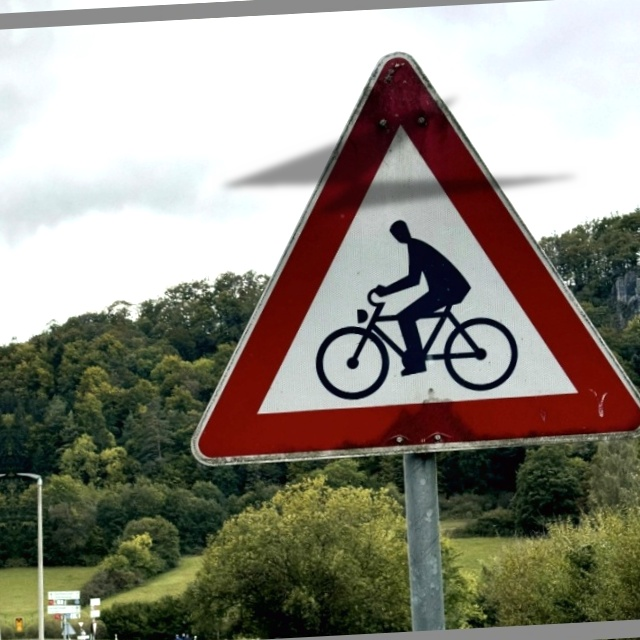Cycle_Crossing: (188, 35, 634, 468)
